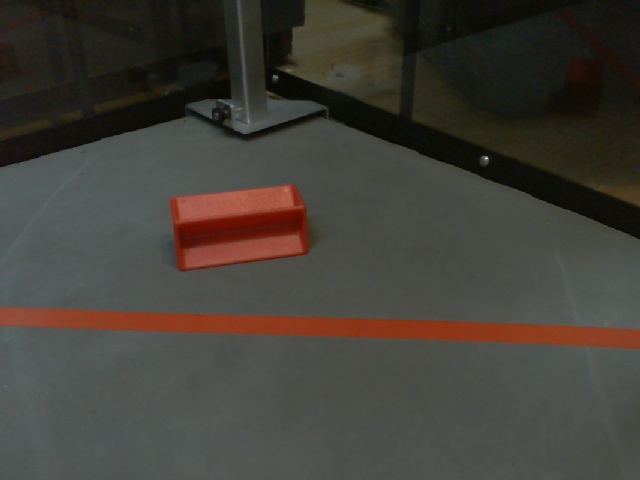RedSample: (167, 181, 311, 271)
